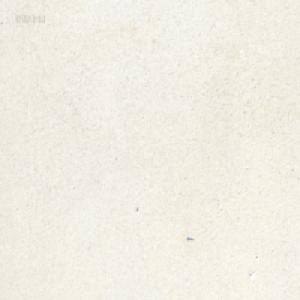Nail: (187, 236, 194, 241)
